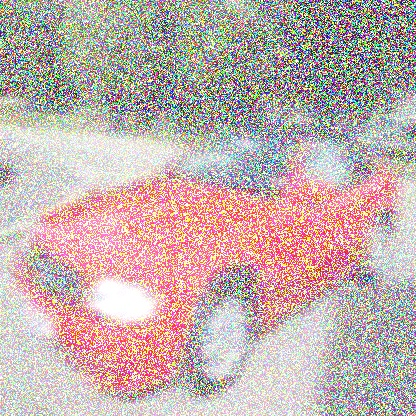Vehicle: (11, 116, 402, 402)
